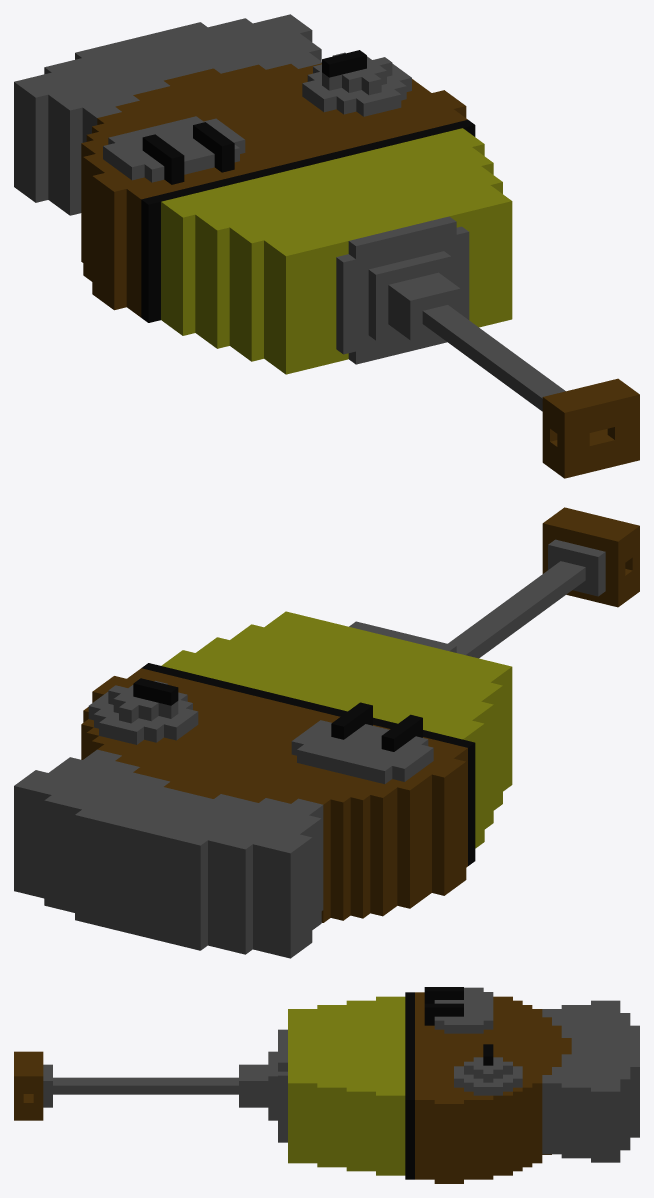
Rendered from Tank_Yellow-0.obj.
3 renders of one model, top to bottom at view 1: azimuth 30°, elevation 25°; view 2: azimuth 150°, elevation 25°; view 3: azimuth 270°, elevation 25°, orthographic. The views are drawn at different scales.
Size of the model in its own units: 2.8 by 1.2 by 6.4.
Materials: 1 (1 with a texture image).
